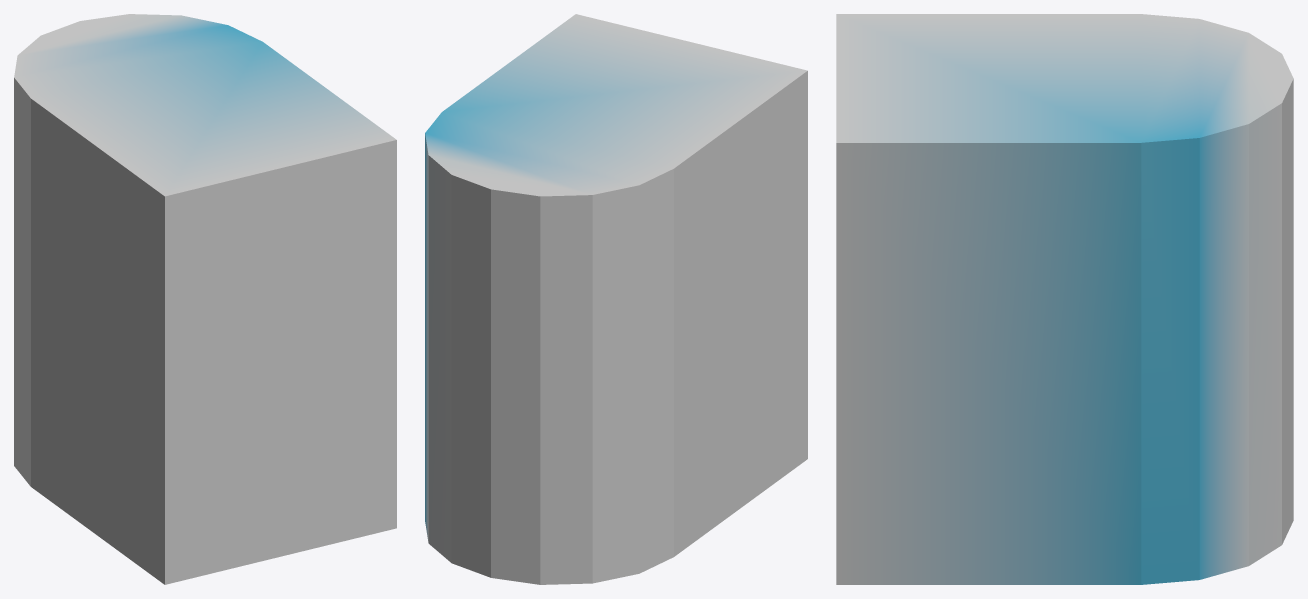
Rendered from chest.dae.
3 renders of one model, left to right at view 1: azimuth 30°, elevation 25°; view 2: azimuth 150°, elevation 25°; view 3: azimuth 270°, elevation 25°, orthographic. The views are drawn at different scales.
Visible parts, largest first — view 1: Cube; view 2: Cube; view 3: Cube.
Part boxes in pixels (x1=…): Cube: x1=14, y1=14, x2=396, y2=584; Cube: x1=425, y1=14, x2=807, y2=584; Cube: x1=836, y1=14, x2=1293, y2=584.
Bounding box in the file's own units: 0.5 × 0.75 × 0.8.
